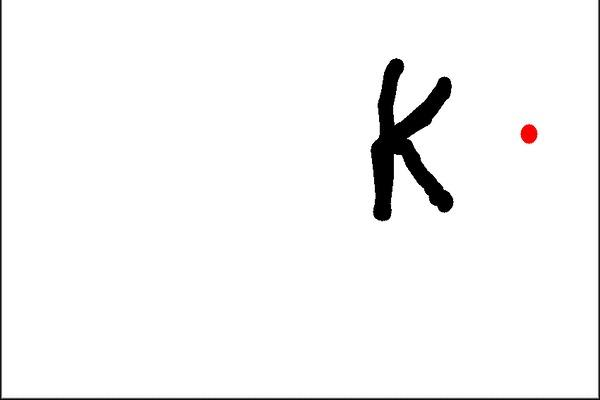K: (366, 51, 461, 229)
